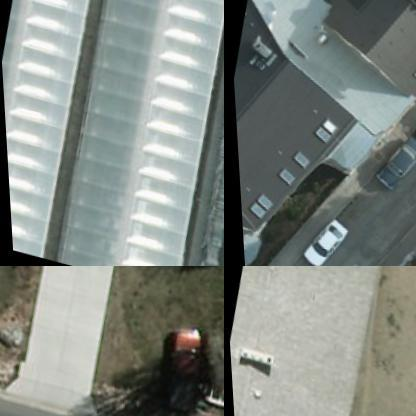car: (370, 129, 415, 198), (297, 212, 352, 265)
pickup: (150, 324, 210, 416)
